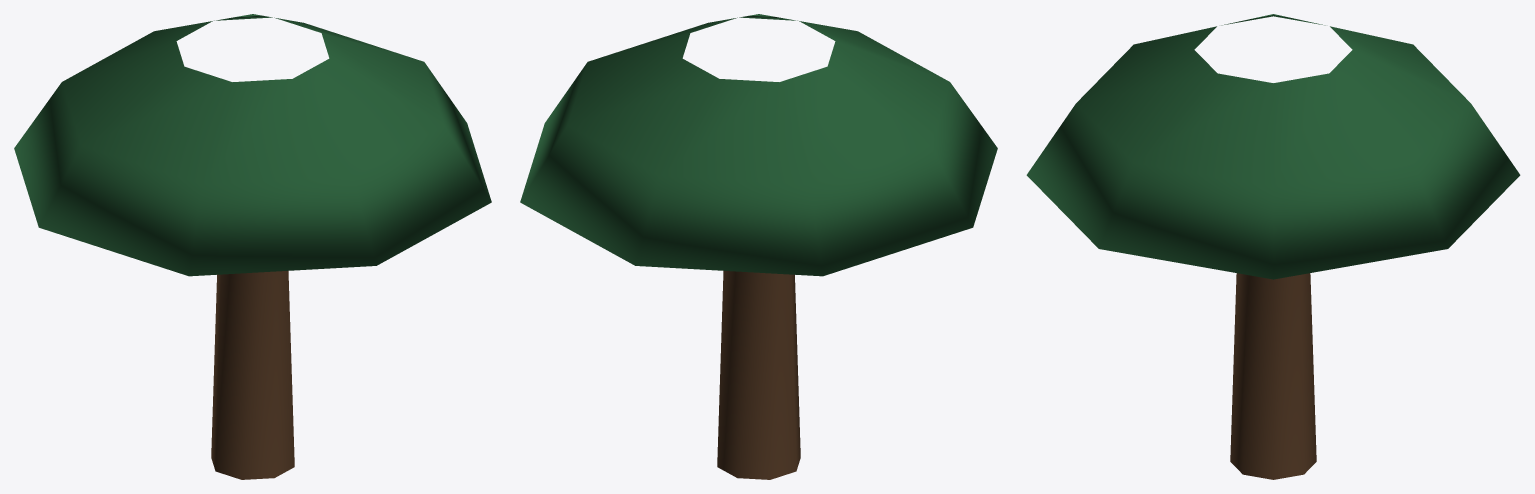
File: fig-spreading.gltf
The picture shows the model from 3 angles, left to right: view 1: azimuth 30°, elevation 25°; view 2: azimuth 150°, elevation 25°; view 3: azimuth 270°, elevation 25°; orthographic projection.
Visible parts, largest first — view 1: fig-spreading; view 2: fig-spreading; view 3: fig-spreading.
Part boxes in pixels (x1,y1,x2,y2): fig-spreading: (14,14,491,479); fig-spreading: (520,14,997,479); fig-spreading: (1026,14,1520,479).
Bounding box in the file's own units: 1 × 1 × 1.
